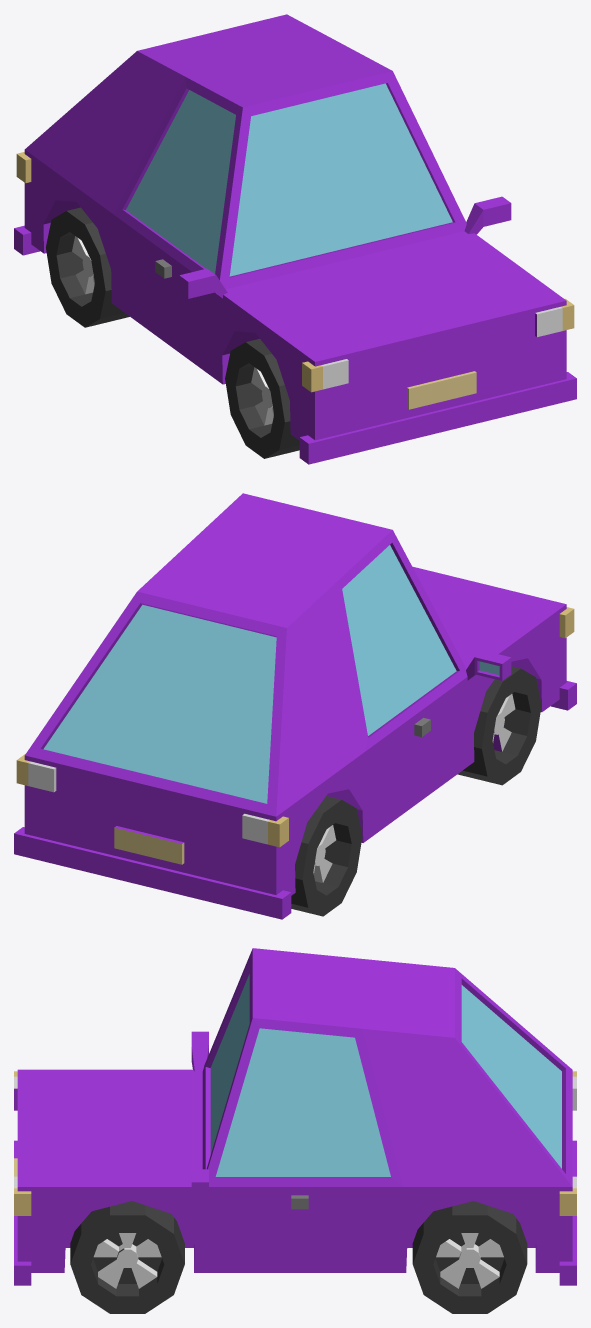
Rendered from Coupe.glb.
3 views of the same model, one above another, from view 1: azimuth 30°, elevation 25°; view 2: azimuth 150°, elevation 25°; view 3: azimuth 270°, elevation 25° (orthographic). The views are drawn at different scales.
Parts seen in each view (by area): view 1: Cube; view 2: Cube; view 3: Cube.
Boxes of the visible parts, bbox=[...] form: Cube: bbox=[14, 14, 576, 464]; Cube: bbox=[14, 493, 576, 919]; Cube: bbox=[14, 948, 576, 1313].
Size of the model in its own units: 2.57 by 2.16 by 4.06.
